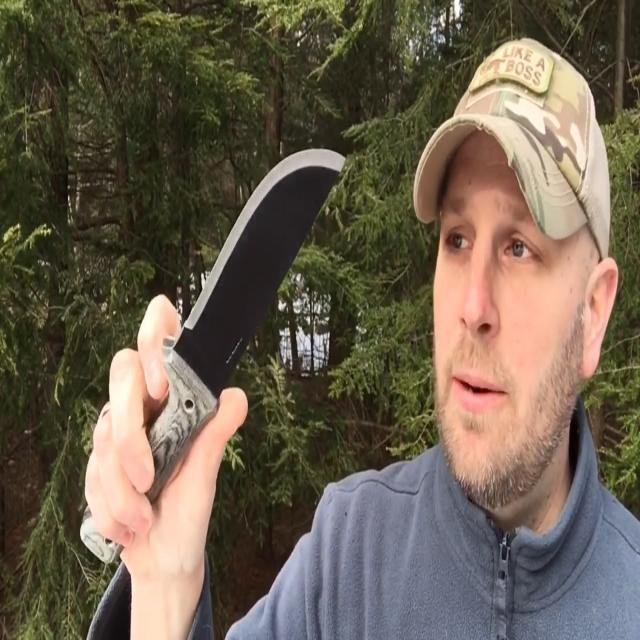knife: (77, 146, 347, 573)
